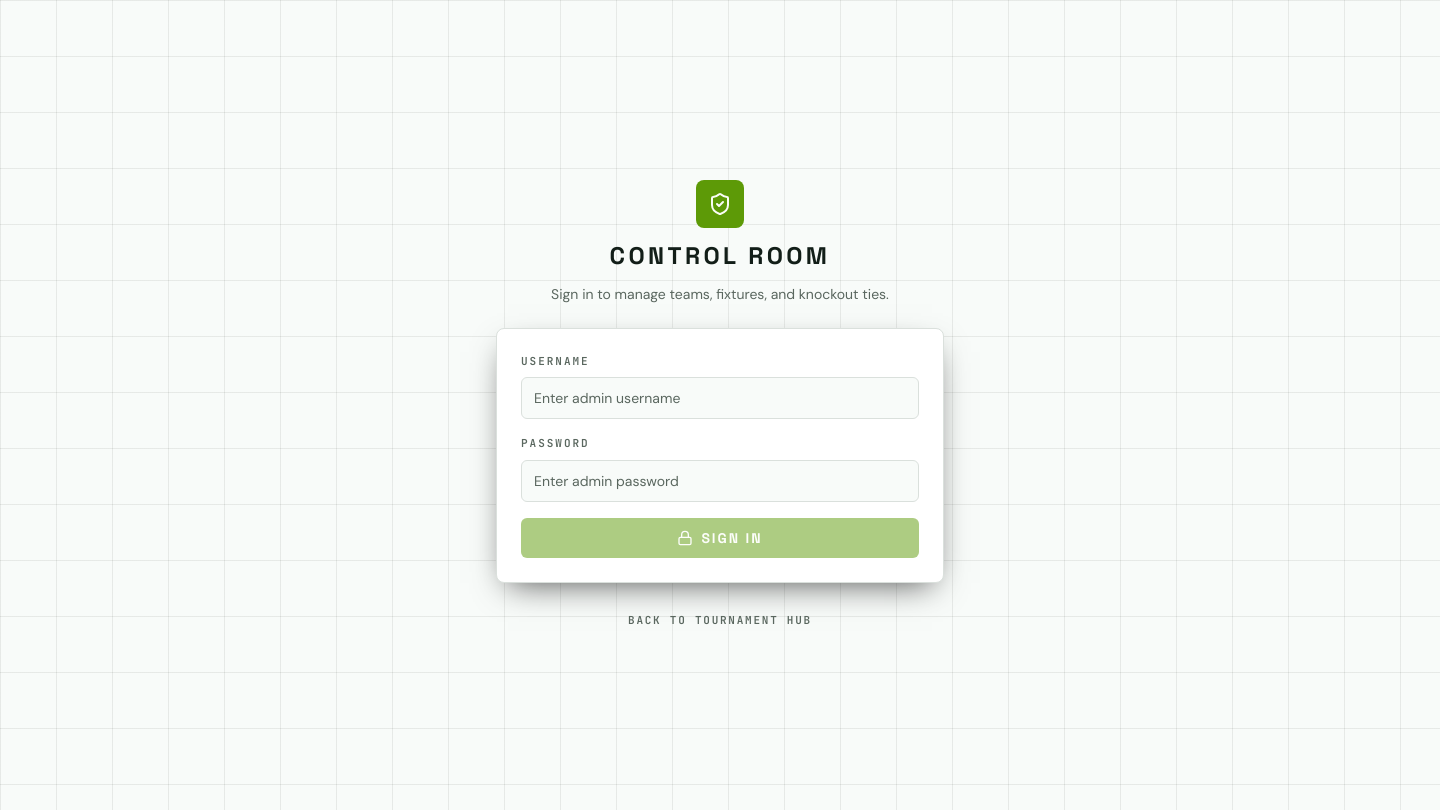
AdminLoginPage › shows an error and keeps the session empty for wrong credentials
The image size is (1440, 810).
Type "Midhu" into the field with test id "admin.username_input". click: x=720, y=398
box: [521,377,919,419]
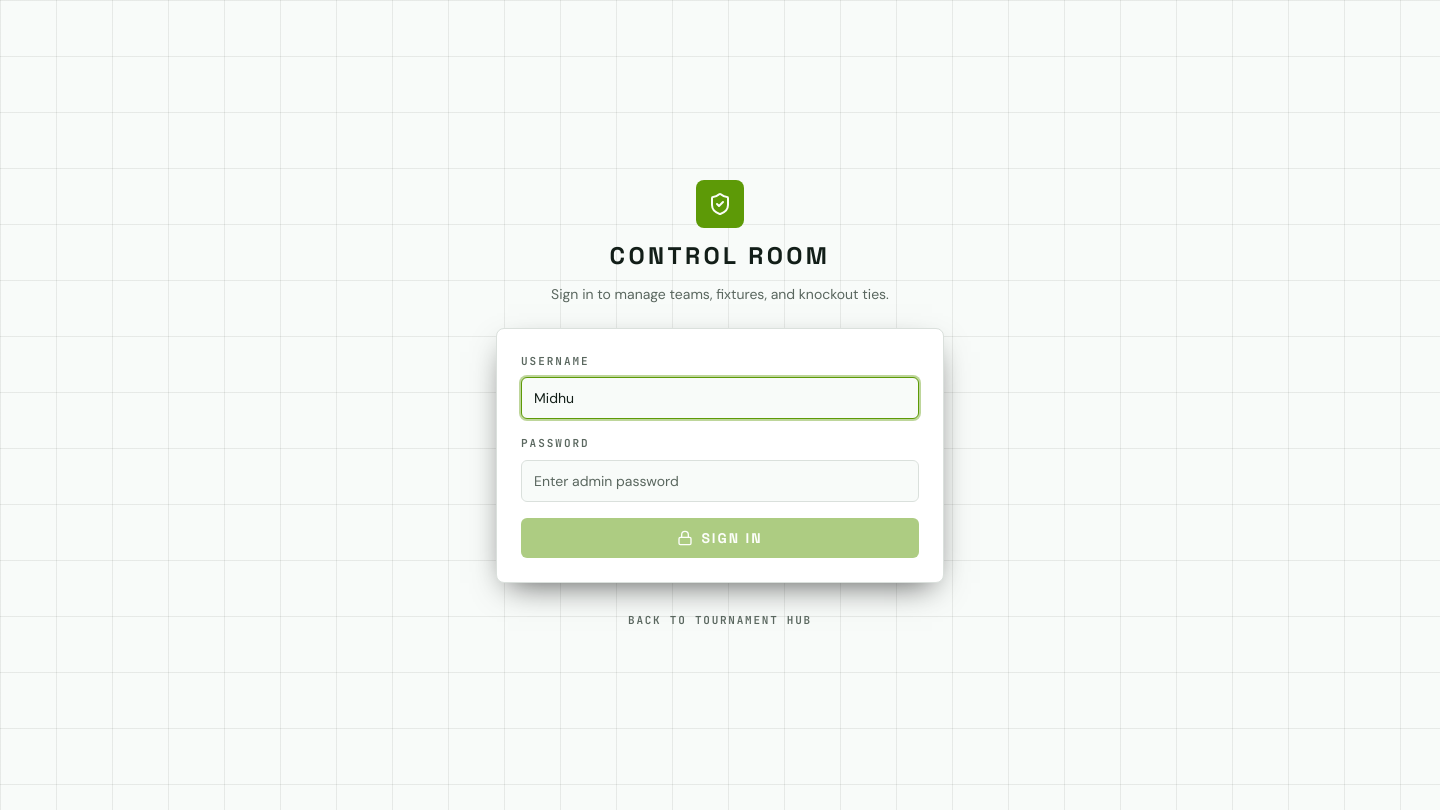
Type "wrong" into the password field with test id "admin.password_input". click: x=720, y=480
box: [521,460,919,502]
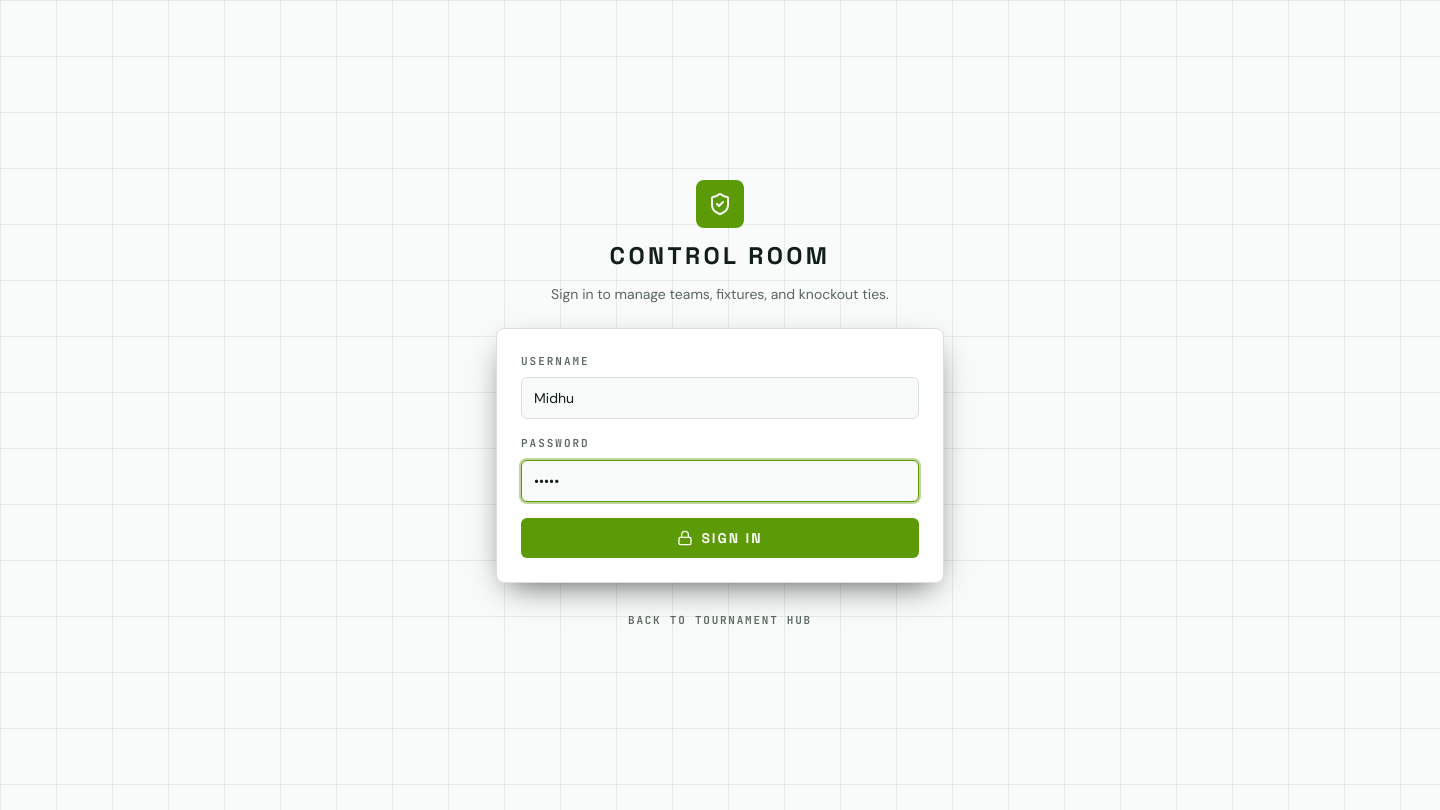
Click the button with test id "admin.login_submit_button". click: x=720, y=538
box: [521,518,919,558]
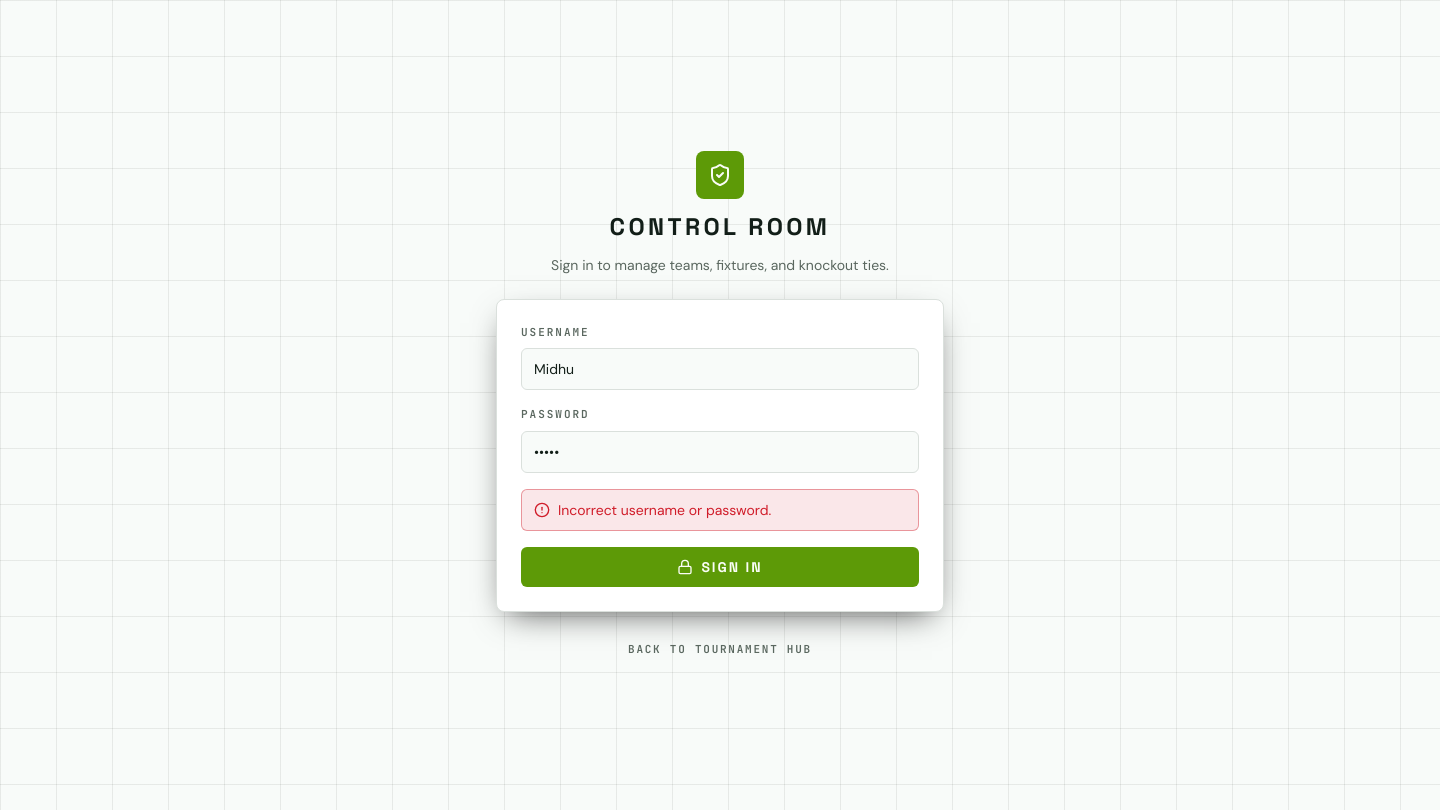
Expected: the message with test id "admin.login_error" reads "Incorrect username or password.", [558,500,771,518]
